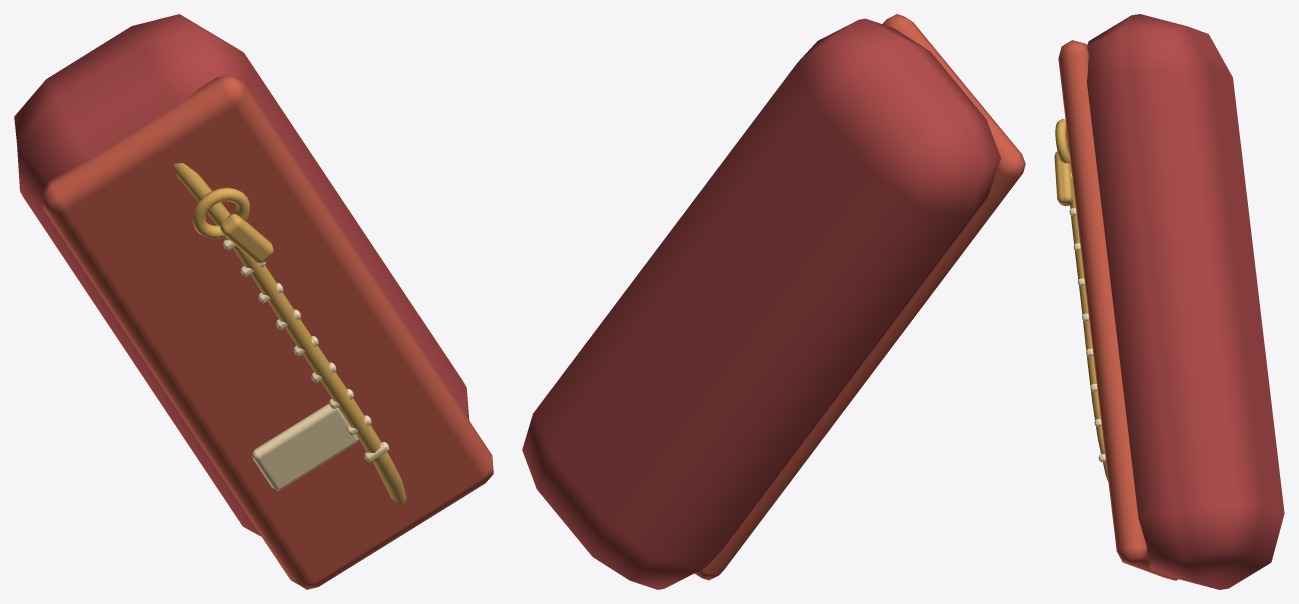
File: pencil-case.glb
The picture shows the model from 3 angles, left to right: view 1: azimuth 30°, elevation 25°; view 2: azimuth 150°, elevation 25°; view 3: azimuth 270°, elevation 25°; orthographic projection. The views are drawn at different scales.
Parts seen in each view (by area): view 1: pencil-case; view 2: pencil-case; view 3: pencil-case.
Boxes of the visible parts, box(x1,y1,x2,y2) form: pencil-case: box(14, 14, 493, 589); pencil-case: box(522, 14, 1025, 589); pencil-case: box(1054, 14, 1284, 589).
Size of the model in its own units: 0.7058 by 0.8747 by 0.3675.
